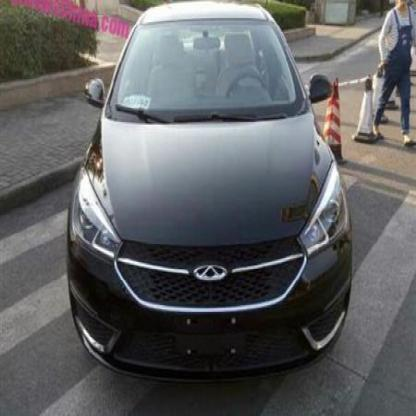Car: (66, 0, 356, 377)
